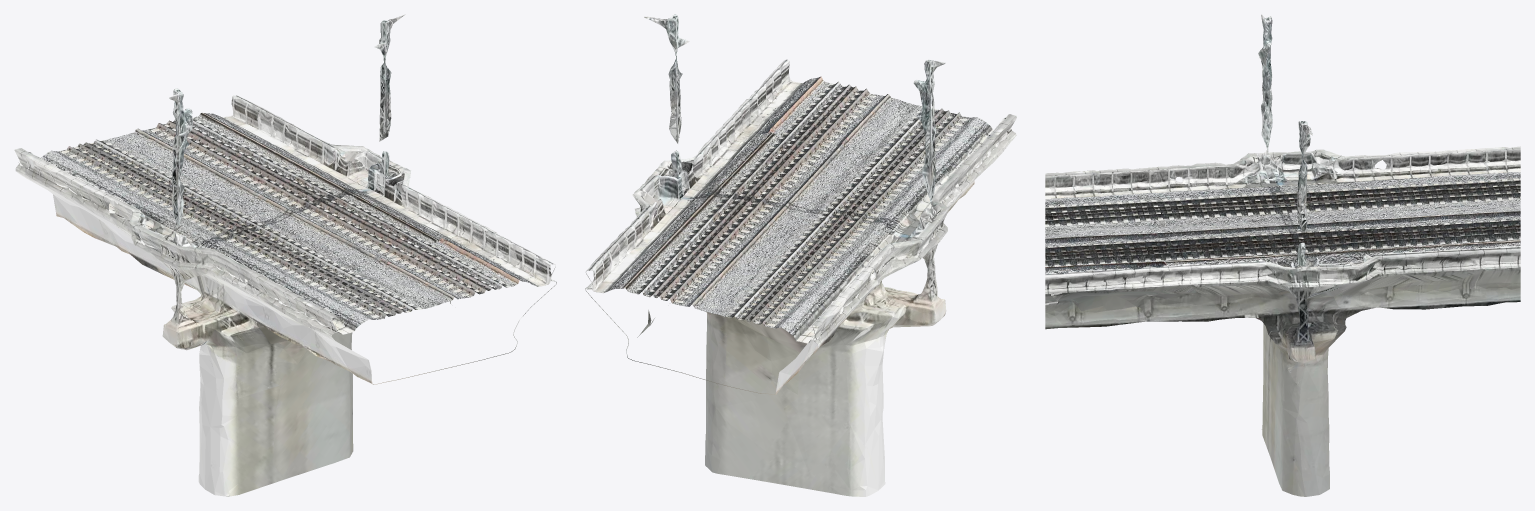
The model's file is Block_L21_665.glb.
3 renders of one model, left to right at view 1: azimuth 30°, elevation 25°; view 2: azimuth 150°, elevation 25°; view 3: azimuth 270°, elevation 25°, orthographic. The views are drawn at different scales.
Parts seen in each view (by area): view 1: rtc; view 2: rtc; view 3: rtc.
Part boxes in pixels (x1,y1,x2,y2): rtc: (14, 14, 556, 496); rtc: (585, 14, 1016, 496); rtc: (1045, 14, 1520, 496).
Size of the model in its own units: 16.23 by 22.44 by 24.69.
7 materials, 7 textured.
